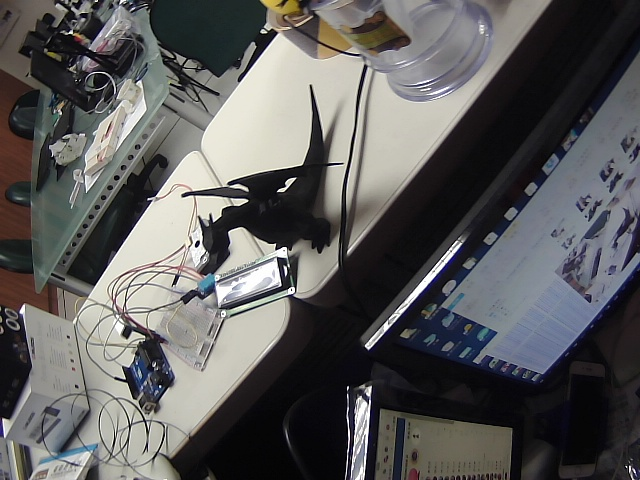charizard: (148, 77, 393, 283)
